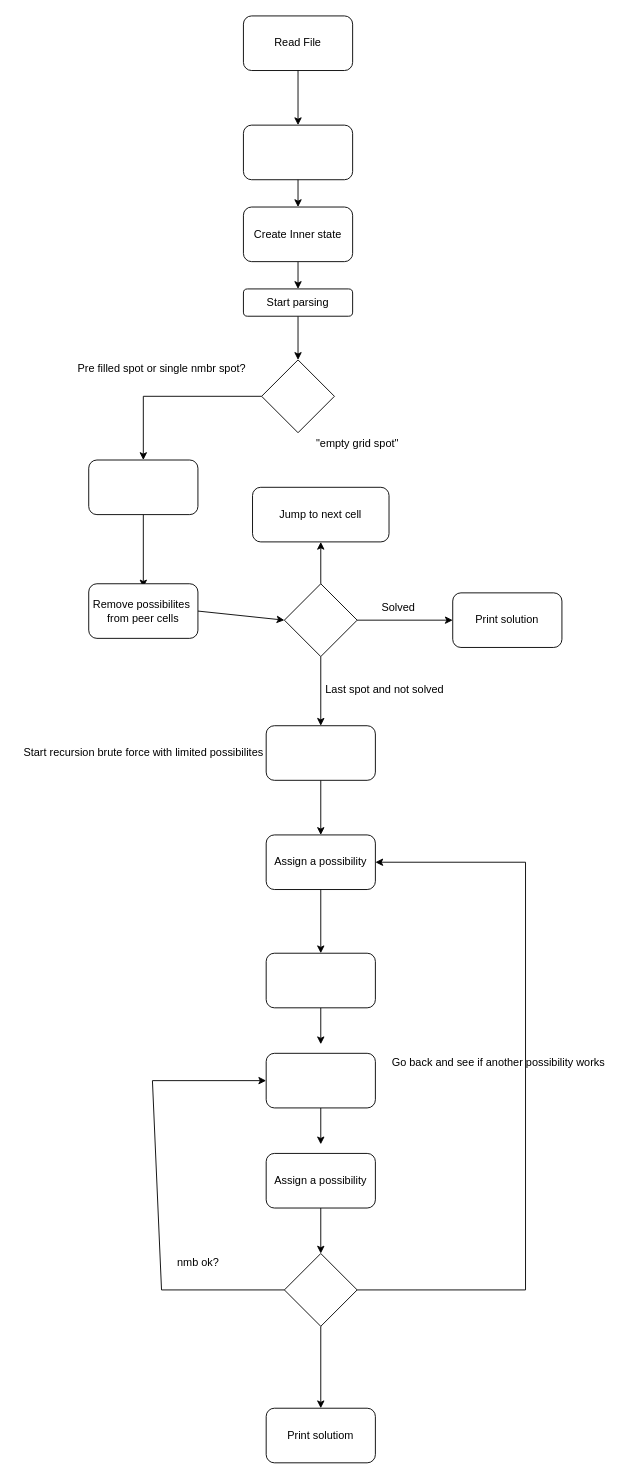
Some shapes in this 627 by 1479 pixel diagram are drawn without their labels. The shapes that lost their labels are listed below. From the top down, each one's centre as x and y in pixels, then its label:
(298,152): Create Grid
(143,487): Update inner state spot
(320,752): Find unsolved spot
(320,980): Remove assigned # from peers
(320,1080): Find next unsolved spot
